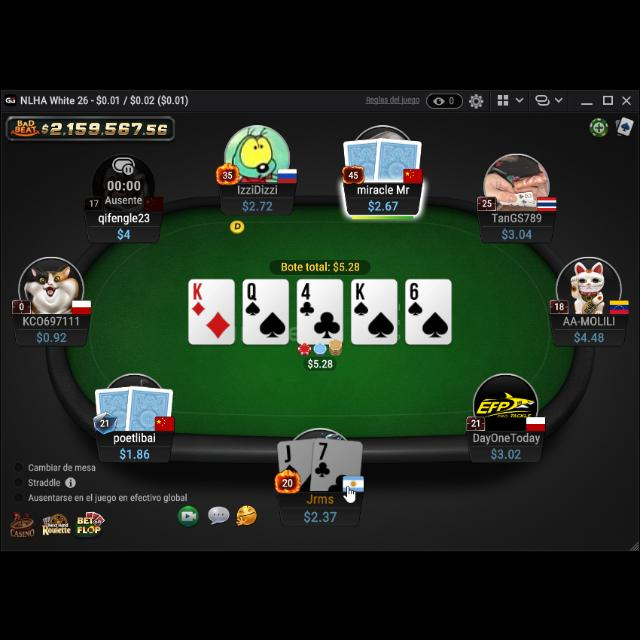4c: (298, 281, 316, 319)
6s: (408, 280, 424, 316)
7c: (314, 440, 332, 480)
Js: (280, 443, 302, 479)
Kd: (190, 280, 206, 316)
Ks: (352, 280, 370, 318)
Qs: (243, 280, 261, 316)
bet_text: (306, 357, 334, 369)
card_back: (372, 136, 423, 184), (124, 383, 174, 431), (341, 136, 385, 184), (94, 384, 134, 431)
dealer: (228, 218, 246, 236)
pot_text: (280, 260, 360, 272)
stack_text: (303, 507, 339, 525), (573, 329, 607, 345), (118, 446, 150, 462), (500, 226, 532, 242), (366, 198, 402, 212), (241, 198, 275, 212), (36, 330, 68, 344), (490, 447, 522, 461), (116, 227, 132, 240)
